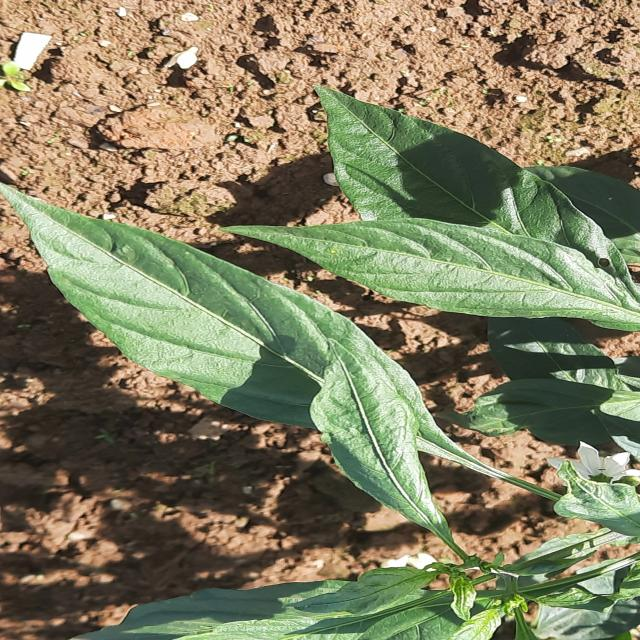sehat: (0, 187, 435, 465), (217, 205, 640, 323), (310, 339, 480, 538)
